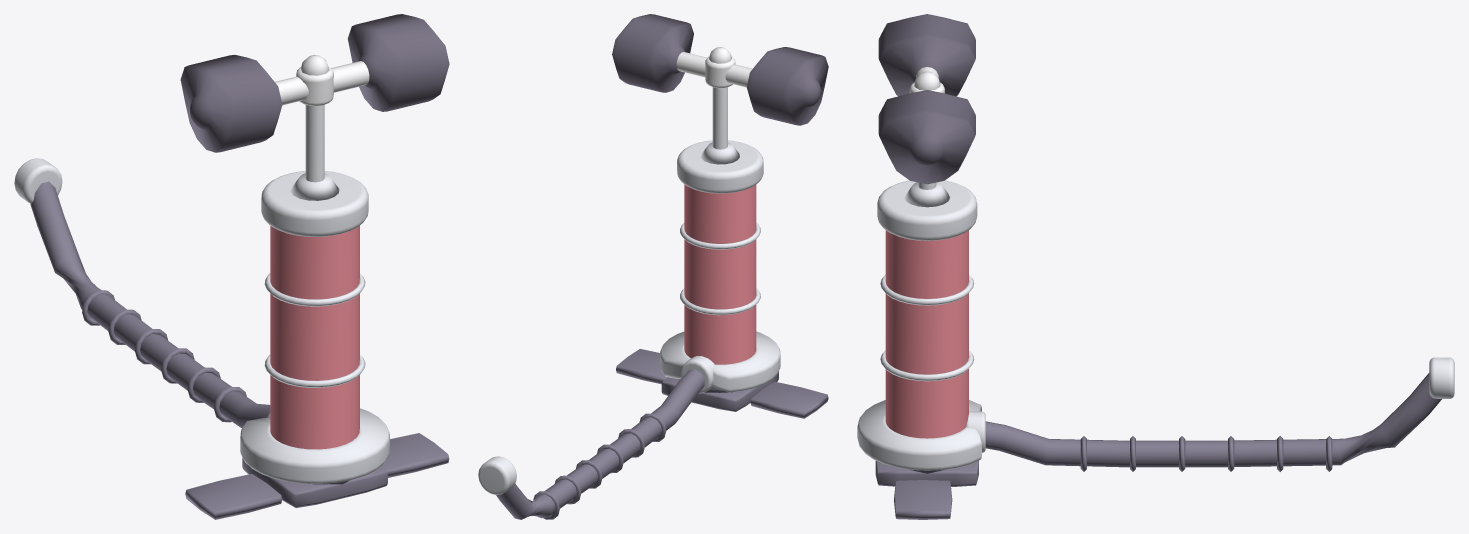
Rendered from Plunger.glb.
The picture shows the model from 3 angles, left to right: view 1: azimuth 30°, elevation 25°; view 2: azimuth 150°, elevation 25°; view 3: azimuth 270°, elevation 25°; orthographic projection. The views are drawn at different scales.
Parts seen in each view (by area): view 1: Barrel, Chrome, Grips, Hose, PumpBase, Handle, Rod; view 2: Barrel, Chrome, Grips, Hose, PumpBase, Handle, Rod; view 3: Barrel, Grips, Chrome, Hose, PumpBase.
Part boxes in pixels (x1,y1,x2,y2): Barrel: (270, 225, 359, 449); Chrome: (14, 158, 389, 483); Grips: (180, 14, 449, 152); Hose: (30, 181, 270, 428); PumpBase: (185, 433, 449, 519); Handle: (275, 55, 369, 106); Rod: (305, 105, 324, 182); Barrel: (684, 184, 756, 364); Chrome: (478, 140, 780, 494); Grips: (612, 14, 828, 125); Hose: (496, 369, 704, 519); PumpBase: (616, 349, 828, 418); Handle: (676, 47, 752, 88); Rod: (712, 87, 727, 149); Barrel: (885, 230, 968, 438); Grips: (878, 14, 975, 184); Chrome: (857, 180, 1454, 470); Hose: (985, 373, 1441, 471); PumpBase: (875, 460, 978, 519).
Size of the model in its own units: 2.52 by 4.31 by 5.72.
